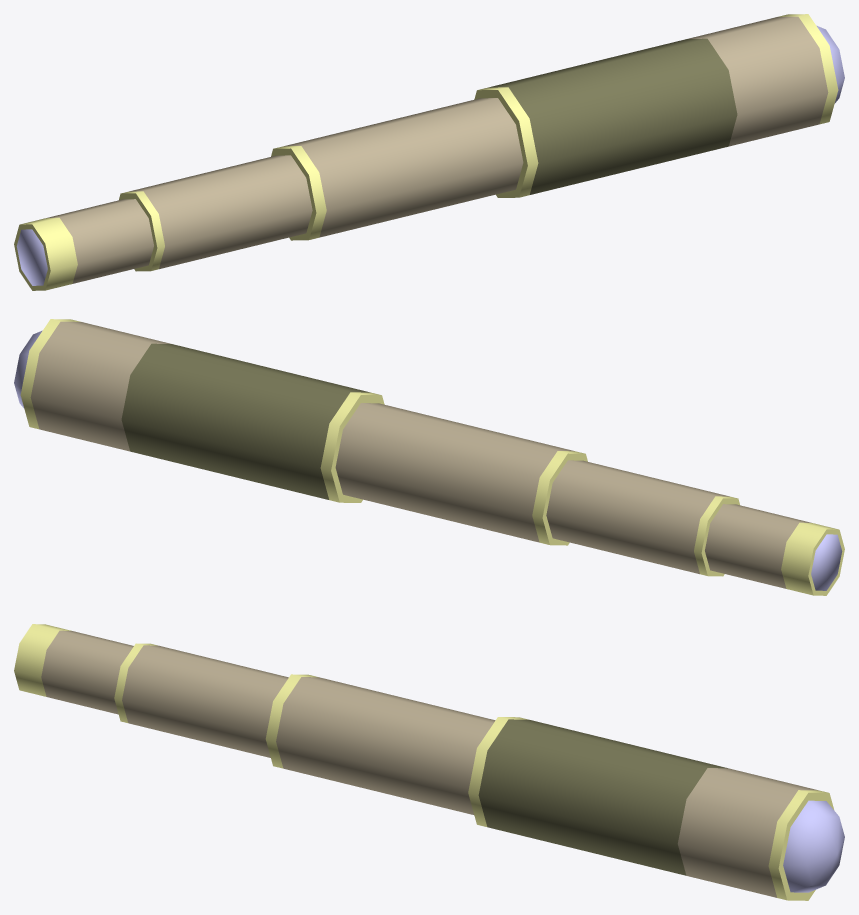
Rendered from telescope.glb.
3 views of the same model, one above another, from view 1: azimuth 30°, elevation 25°; view 2: azimuth 150°, elevation 25°; view 3: azimuth 330°, elevation 25° (orthographic).
Visible parts, largest first — view 1: Circle; view 2: Circle; view 3: Circle.
Part boxes in pixels (x1,y1,x2,y2): Circle: [14, 14, 844, 290]; Circle: [14, 319, 844, 595]; Circle: [14, 624, 844, 900].
Bounding box in the file's own units: 3.89 × 0.5 × 0.5.
